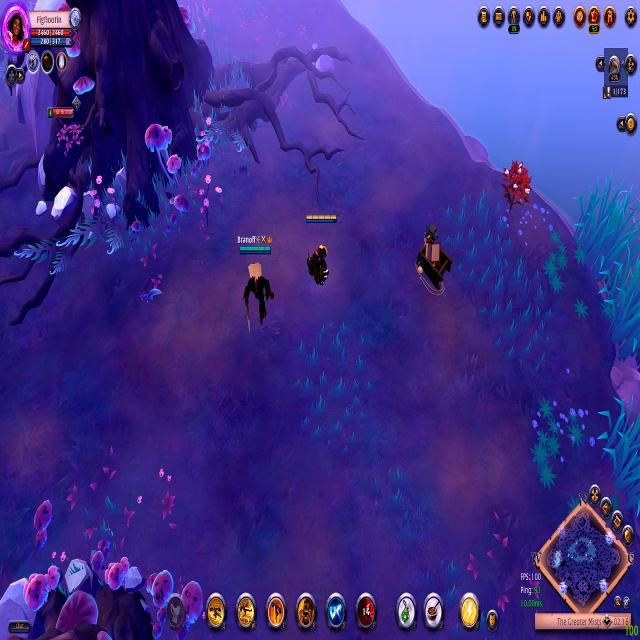hide: (497, 154, 537, 225)
red: (234, 226, 284, 342), (301, 204, 341, 293)
